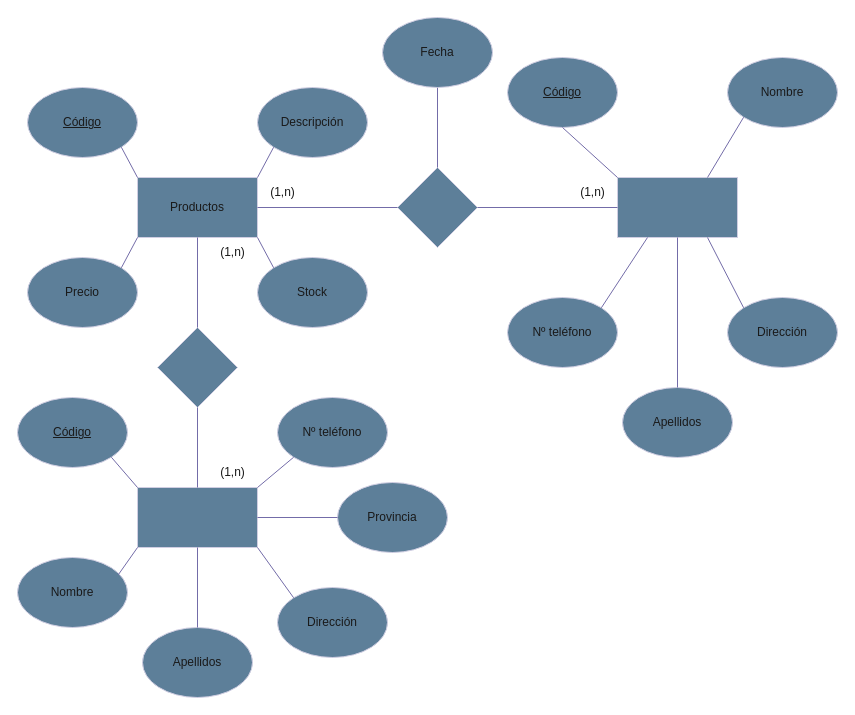
Some shapes in this 855 by 715 pixel diagram are drawn without their labels. The centre of each missing label's shape, as x and y in pixels:
Cliente: (677,207)
Compra: (437,207)
Proveedores: (197,517)
Suministra: (197,367)
